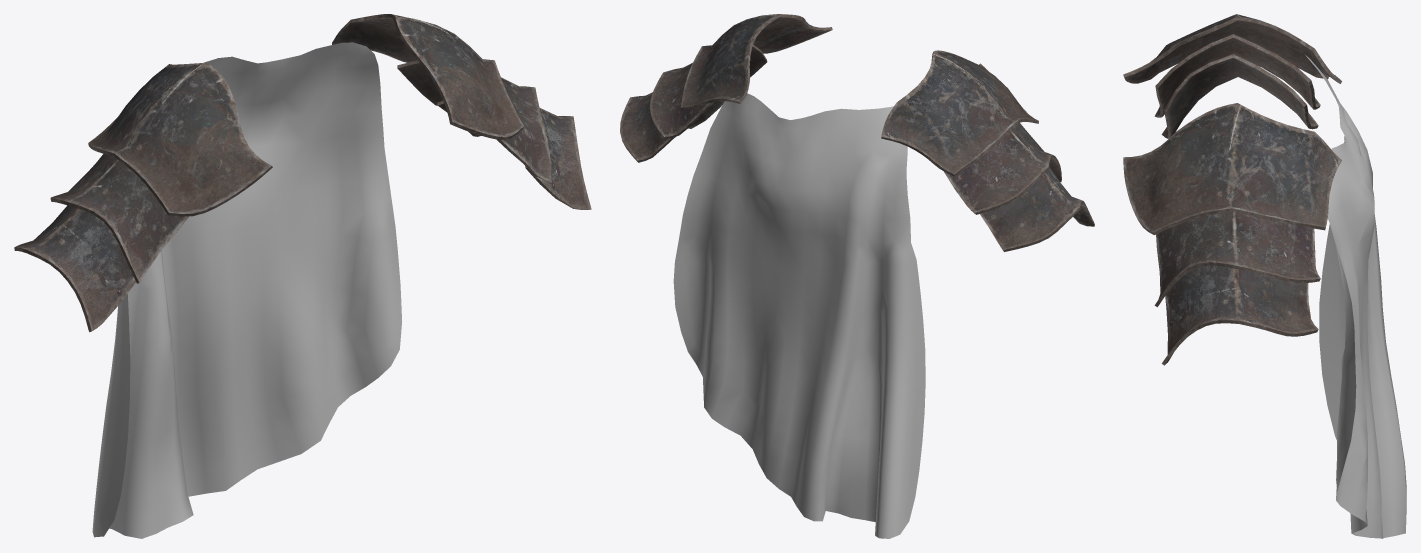
The model's file is sk_dg_uruk_pauldron_elite_cape_a.fbx.
3 renders of one model, left to right at view 1: azimuth 30°, elevation 25°; view 2: azimuth 150°, elevation 25°; view 3: azimuth 270°, elevation 25°, orthographic. The views are drawn at different scales.
Visible parts, largest first — view 1: sk_dg_uruk_pauldron_elite_cape_a.cape, sk_dg_uruk_pauldron_elite_cape_a; view 2: sk_dg_uruk_pauldron_elite_cape_a.cape, sk_dg_uruk_pauldron_elite_cape_a; view 3: sk_dg_uruk_pauldron_elite_cape_a, sk_dg_uruk_pauldron_elite_cape_a.cape.
Part boxes in pixels (left/top/right/bottom): sk_dg_uruk_pauldron_elite_cape_a.cape: left=92, top=42, right=401, bottom=538; sk_dg_uruk_pauldron_elite_cape_a: left=14, top=14, right=591, bottom=332; sk_dg_uruk_pauldron_elite_cape_a.cape: left=673, top=93, right=925, bottom=538; sk_dg_uruk_pauldron_elite_cape_a: left=620, top=14, right=1094, bottom=251; sk_dg_uruk_pauldron_elite_cape_a: left=1123, top=14, right=1341, bottom=365; sk_dg_uruk_pauldron_elite_cape_a.cape: left=1305, top=55, right=1406, bottom=538.
Size of the model in its own units: 0.8427 by 0.4025 by 0.7722.
